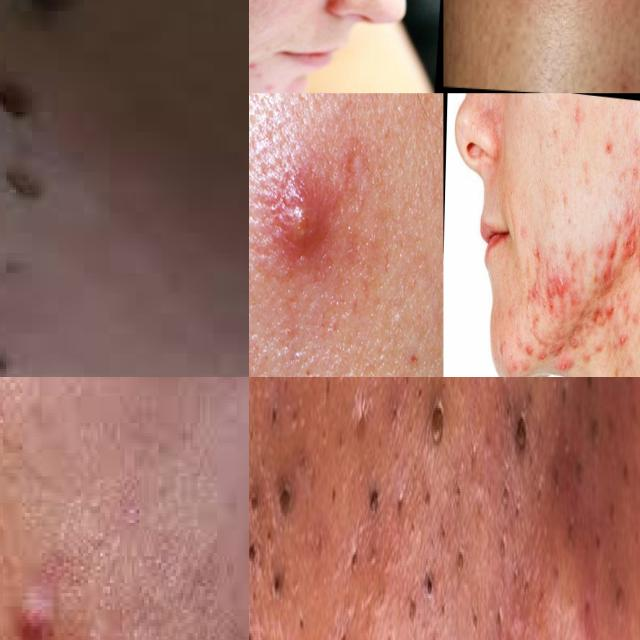acne_scars: (332, 114, 382, 214)
comedone: (0, 65, 66, 141), (6, 0, 95, 30), (1, 165, 59, 208), (426, 400, 452, 455), (512, 398, 531, 473), (0, 338, 28, 377), (363, 477, 383, 524), (278, 468, 292, 531), (268, 566, 286, 610), (517, 207, 534, 253), (566, 124, 583, 166), (424, 566, 439, 613), (519, 286, 533, 333), (249, 528, 259, 587), (546, 118, 560, 156), (249, 477, 259, 523)
cystic: (5, 569, 63, 640)
pustule: (627, 159, 640, 188)
sebo-crystan-conglo: (267, 176, 335, 279), (596, 228, 618, 297), (588, 295, 621, 331), (545, 266, 570, 313), (620, 222, 638, 268), (553, 347, 579, 377)
